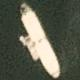ship: (0, 0, 24, 40)
